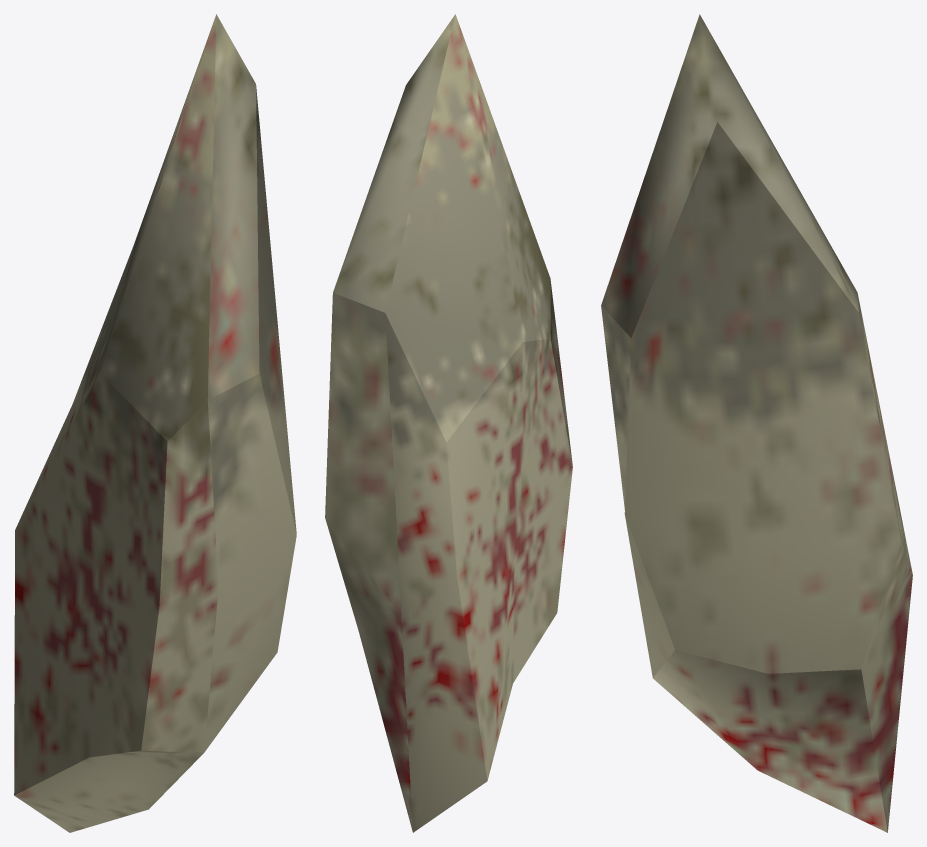
File: Digdig Benbrott.fbx
3 renders of one model, left to right at view 1: azimuth 30°, elevation 25°; view 2: azimuth 150°, elevation 25°; view 3: azimuth 270°, elevation 25°, orthographic. The views are drawn at different scales.
Parts seen in each view (by area): view 1: pCube1; view 2: pCube1; view 3: pCube1.
Boxes of the visible parts, box(x1,y1,x2,y2) form: pCube1: box(14, 14, 296, 832); pCube1: box(325, 14, 572, 832); pCube1: box(601, 14, 912, 832).
Size of the model in its own units: 0.2184 by 0.9323 by 0.3132.
